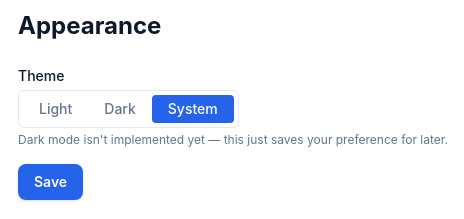
Test case: picking a theme and saving
The image size is (464, 219).
Click the button "dark": (120, 109) [88,95,152,123]
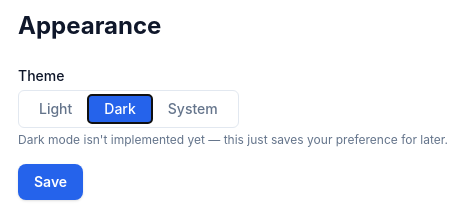
Click the button "Save": (51, 182) [18,164,83,200]
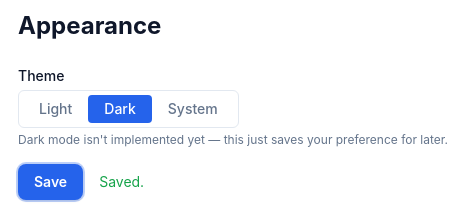
Now the text "Saved." is shown, box [99,172,144,192]
